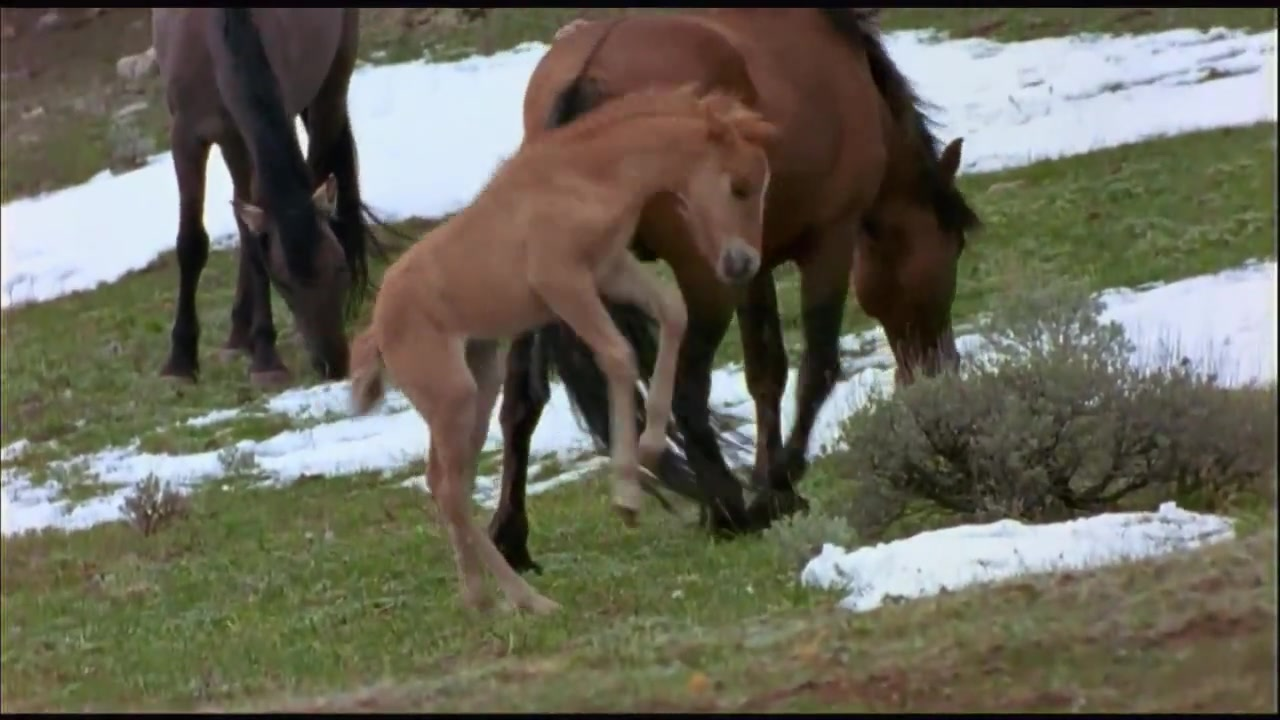horse: (347, 84, 785, 625)
